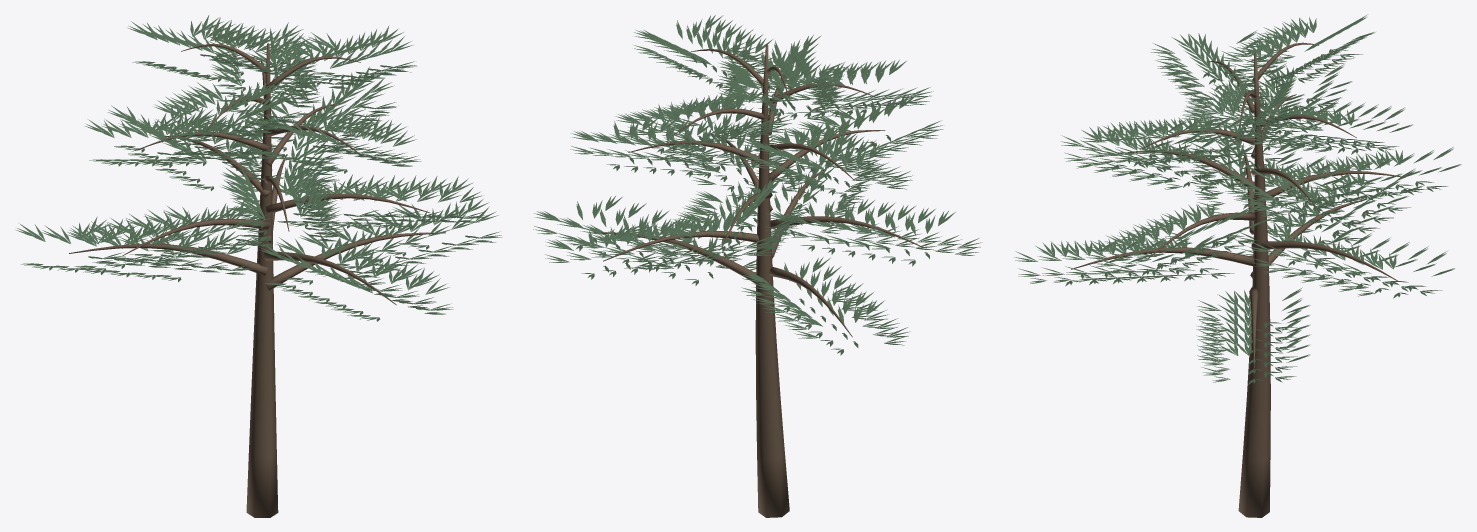
Rendered from pine-lod1.glb.
The picture shows the model from 3 angles, left to right: view 1: azimuth 30°, elevation 25°; view 2: azimuth 150°, elevation 25°; view 3: azimuth 270°, elevation 25°; orthographic projection.
Visible parts, largest first — view 1: three dimensional leaves, rooted trunk and branch hierarchy; view 2: three dimensional leaves, rooted trunk and branch hierarchy; view 3: three dimensional leaves, rooted trunk and branch hierarchy.
Part boxes in pixels (x1,y1,x2,y2): three dimensional leaves: (16, 15, 501, 321); rooted trunk and branch hierarchy: (69, 43, 445, 517); three dimensional leaves: (533, 15, 982, 355); rooted trunk and branch hierarchy: (594, 44, 923, 517); three dimensional leaves: (1014, 14, 1461, 384); rooted trunk and branch hierarchy: (1071, 42, 1405, 517).
Size of the model in its own units: 7.24 by 7.5 by 6.63.
